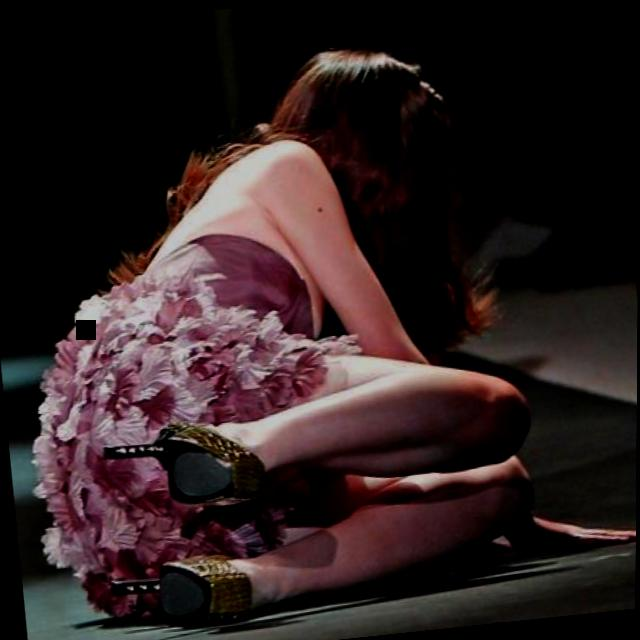Fall-Detected: (0, 14, 589, 630)
